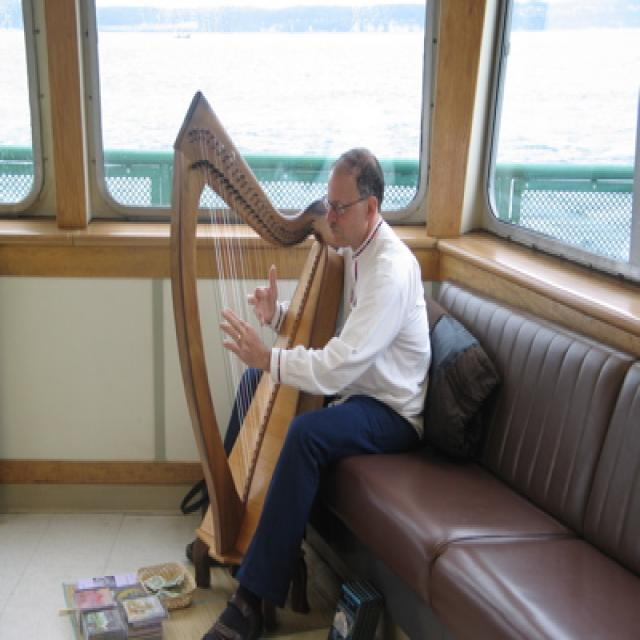harp: (170, 89, 343, 591)
